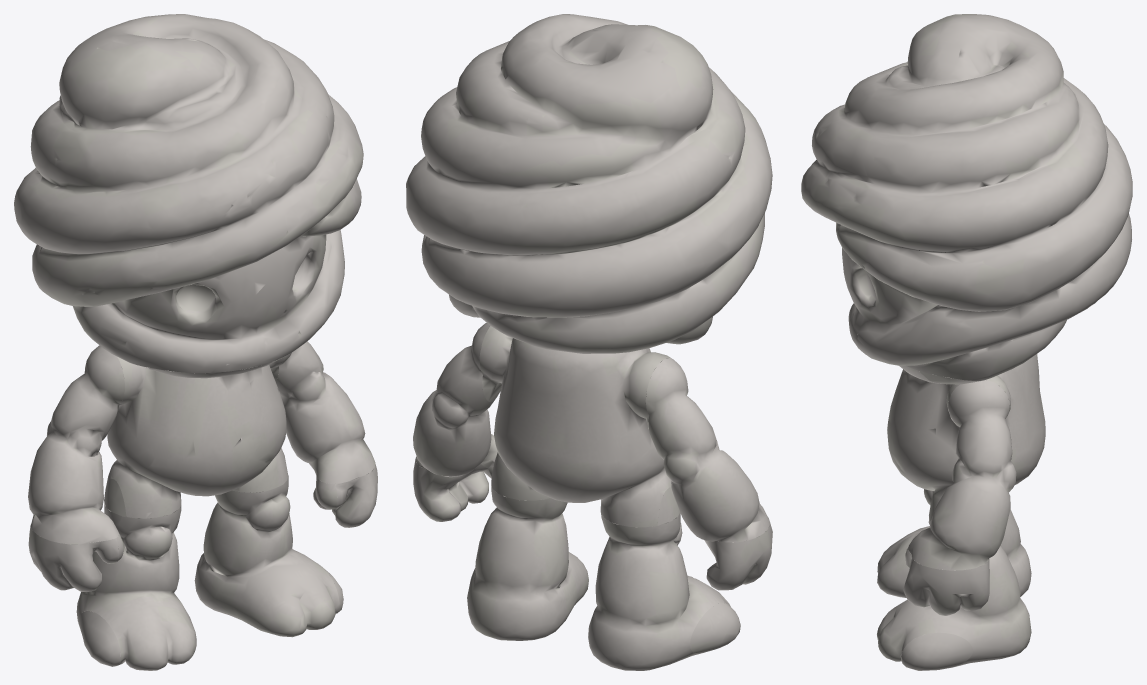
The model's file is 22-curve--stylized_cartoon_figure_3d_model.glb.
The picture shows the model from 3 angles, left to right: view 1: azimuth 30°, elevation 25°; view 2: azimuth 150°, elevation 25°; view 3: azimuth 270°, elevation 25°; orthographic projection. The views are drawn at different scales.
Parts seen in each view (by area): view 1: head_mesh, arms_mesh, feet_mesh, body_mesh; view 2: head_mesh, feet_mesh, arms_mesh, body_mesh; view 3: head_mesh, arms_mesh, body_mesh, feet_mesh.
Boxes of the visible parts, x1,y1,x2,y2 form: head_mesh: [14, 14, 363, 373]; arms_mesh: [28, 341, 377, 666]; feet_mesh: [76, 470, 339, 670]; body_mesh: [105, 355, 287, 518]; head_mesh: [406, 14, 772, 353]; feet_mesh: [467, 459, 730, 670]; arms_mesh: [413, 322, 772, 653]; body_mesh: [479, 326, 671, 527]; head_mesh: [801, 14, 1132, 380]; arms_mesh: [901, 370, 1016, 670]; body_mesh: [887, 354, 1045, 520]; feet_mesh: [877, 489, 1031, 667].
Size of the model in its own units: 1.78 by 3 by 1.58.
4 materials, 4 textured.
